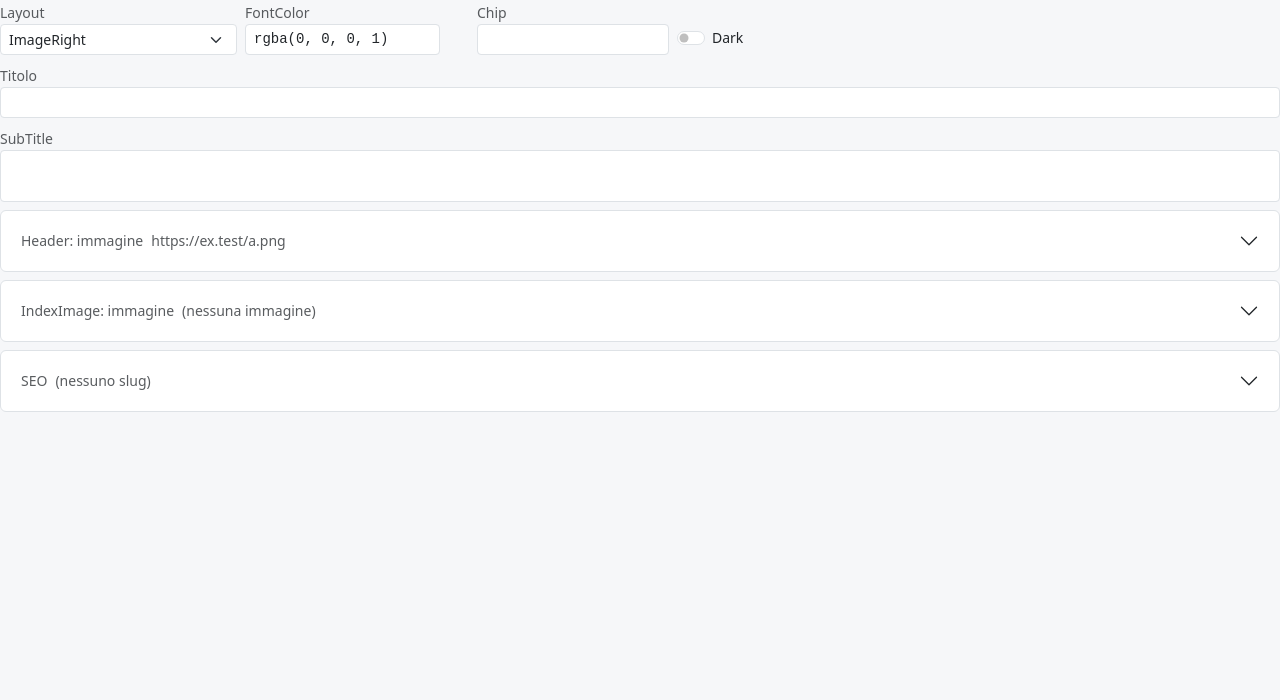
Test case: HeaderEditor › passando a None azzera Image e nasconde i campi immagine header
The width and height of the screenshot is (1280, 700).
Click the button "Header: immagine https://ex.test/a.png": (82, 240) [1,215,1279,267]
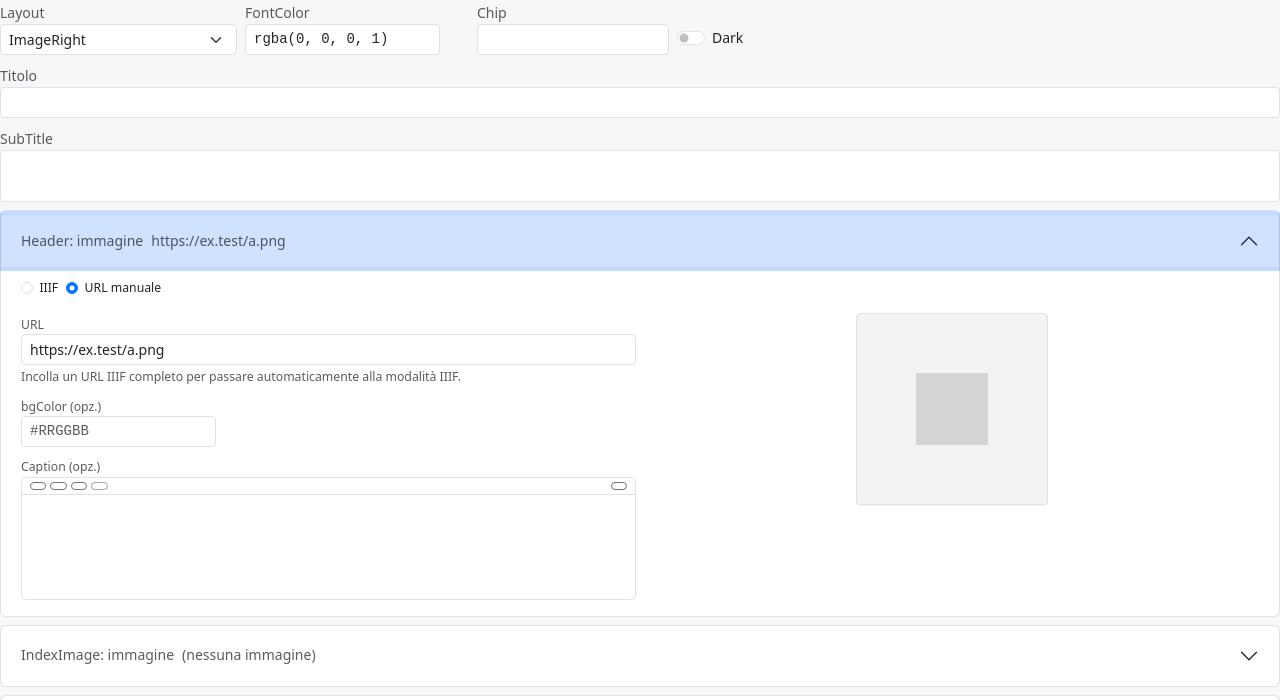
Expected: the field labelled "URL" is shown, [21,334,636,365]
Select "None" in the dropdown labelled "Layout": (118, 40) [0,24,237,55]
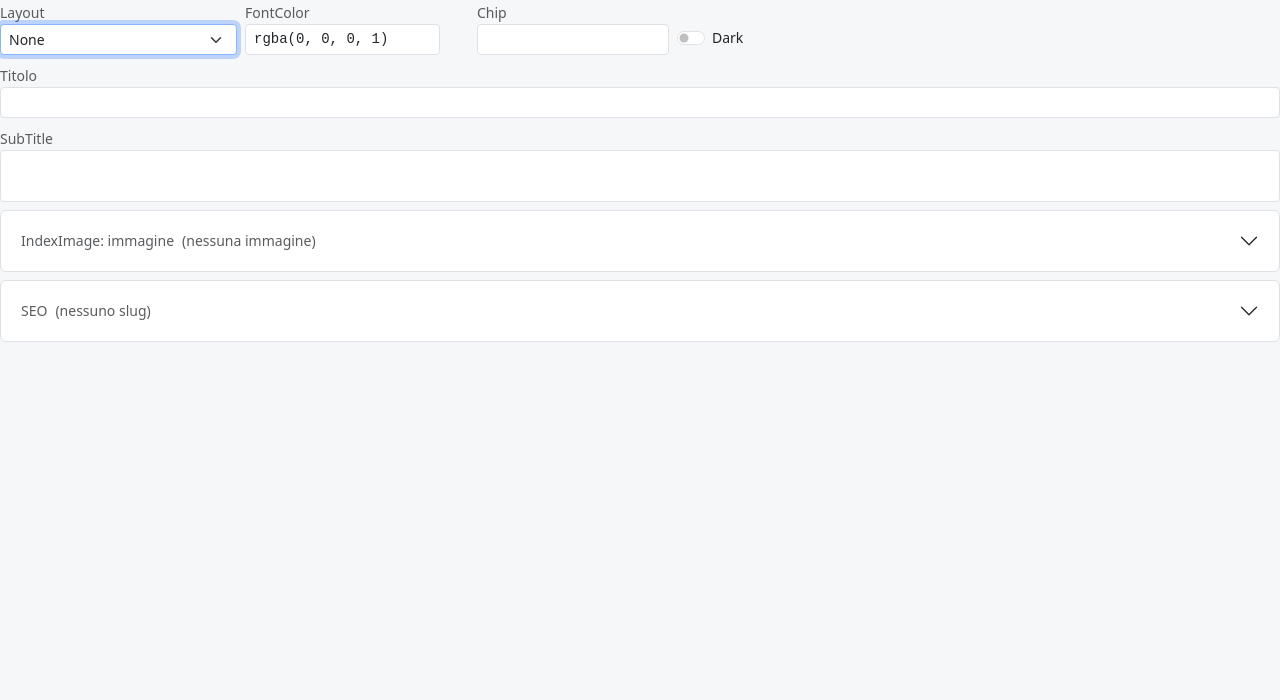
Expected: the button "IndexImage: immagine (nessuna immagine)" is shown, [1,215,1279,267]
Expected: the button "Header: immagine" is gone
